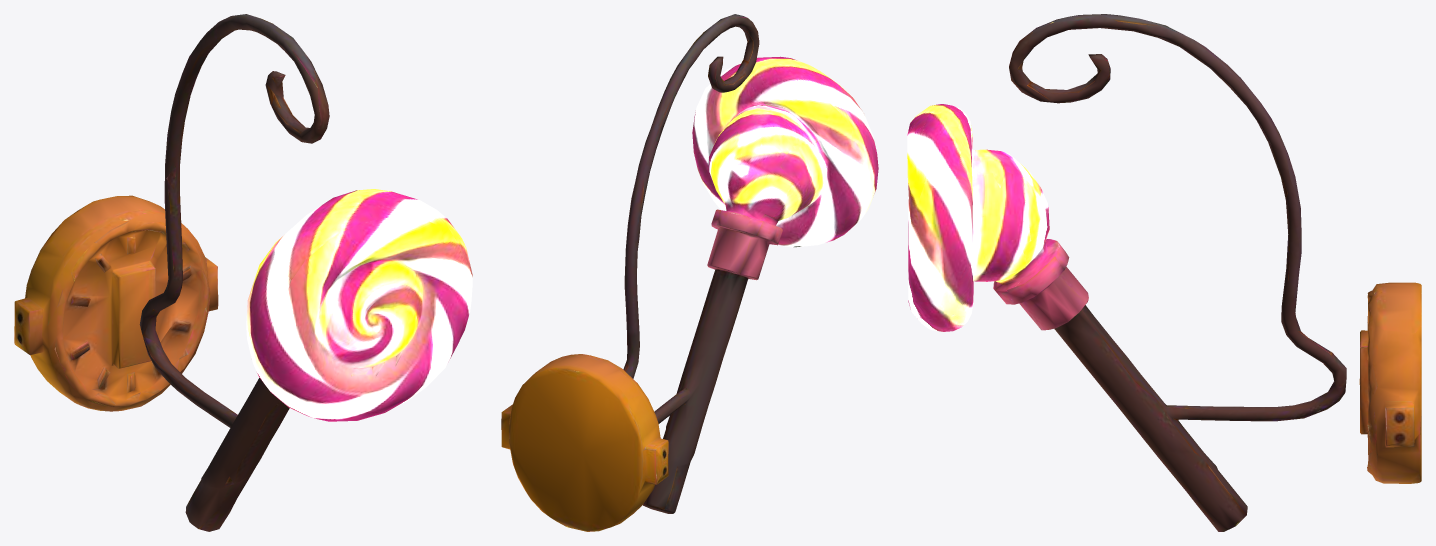
File: tunel_segment.glb
3 views of the same model, side by side, from view 1: azimuth 30°, elevation 25°; view 2: azimuth 150°, elevation 25°; view 3: azimuth 270°, elevation 25° (orthographic). The views are drawn at different scales.
Parts seen in each view (by area): view 1: Mesh_0; view 2: Mesh_0; view 3: Mesh_0.
Boxes of the visible parts, x1,y1,x2,y2 form: Mesh_0: [14, 14, 472, 531]; Mesh_0: [501, 14, 878, 531]; Mesh_0: [907, 14, 1421, 531].
Bounding box in the file's own units: 0.7898 × 1.91 × 1.73.
1 material, 1 textured.
